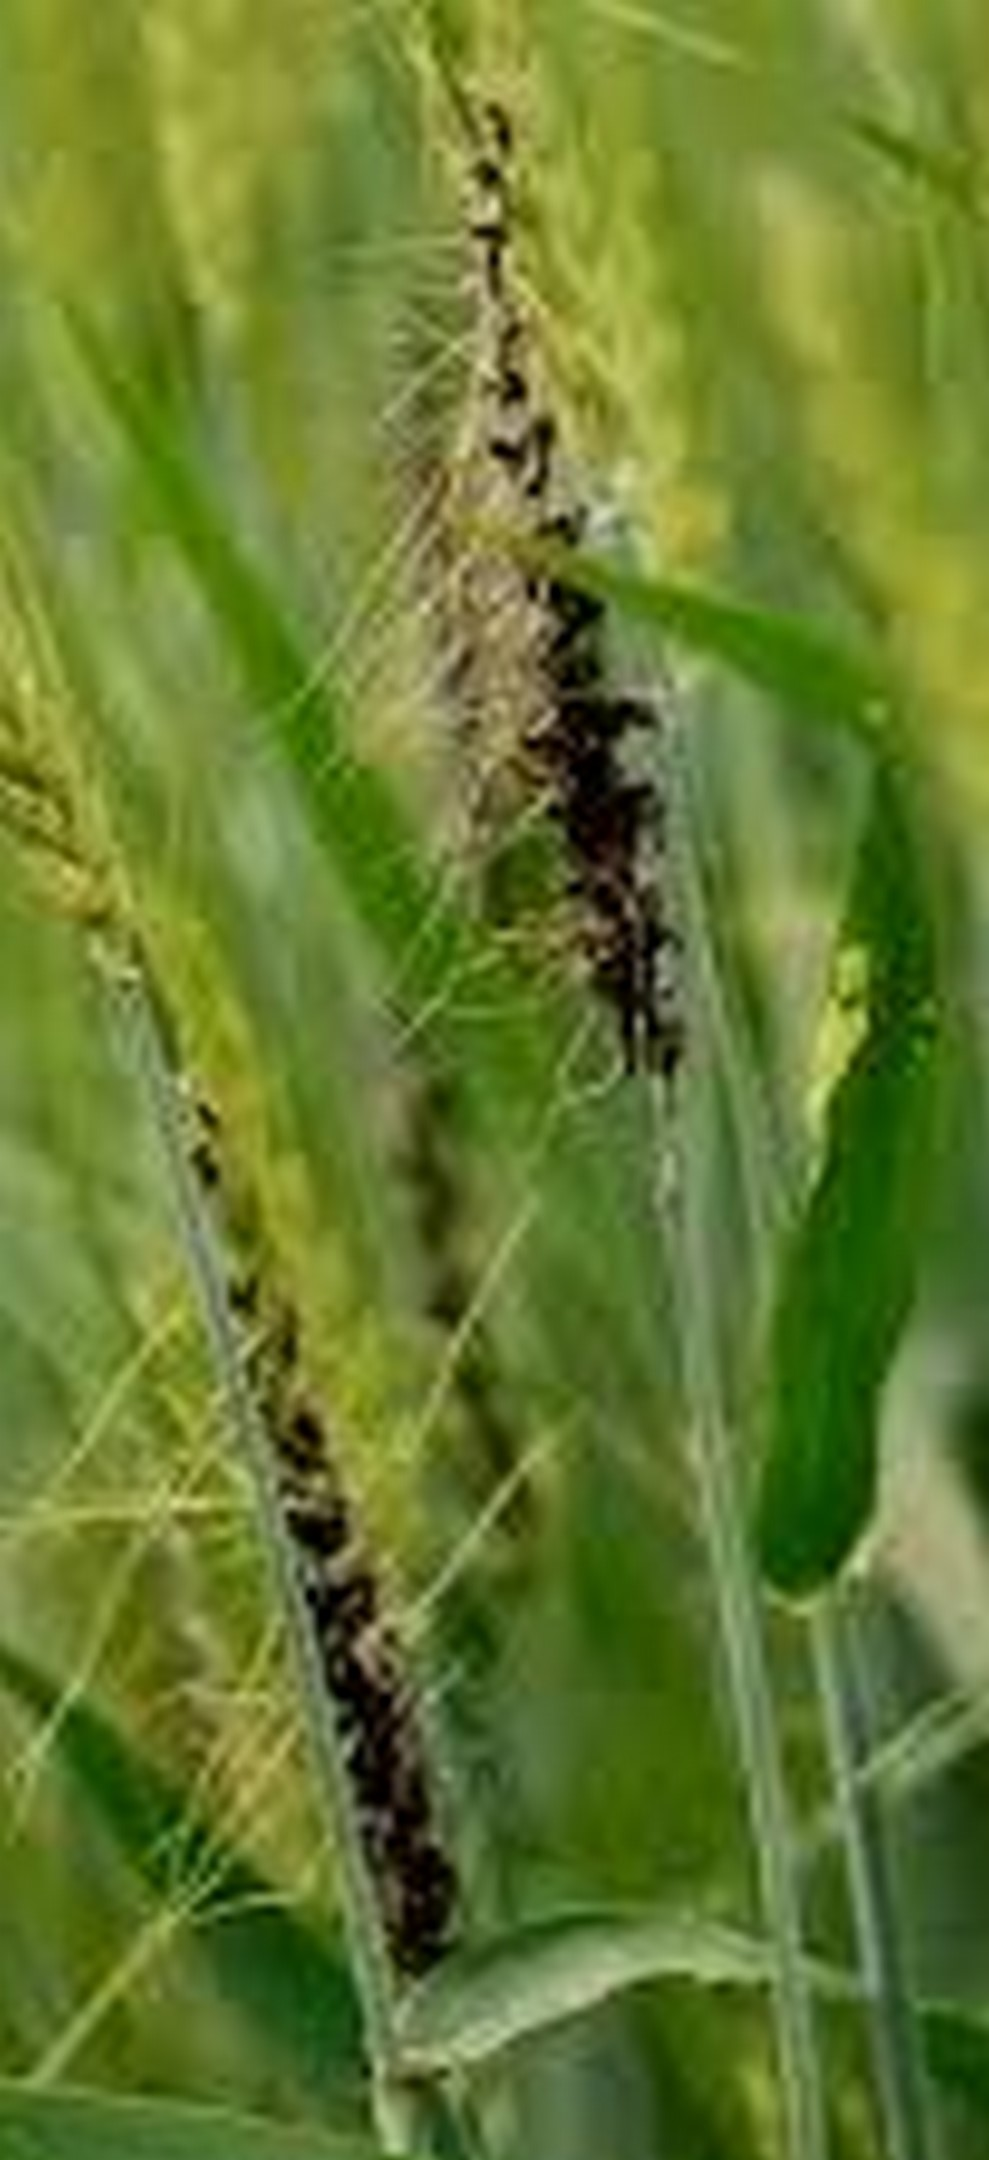Wheat Loose Smut: (428, 266, 709, 1091), (218, 1329, 500, 1952)
